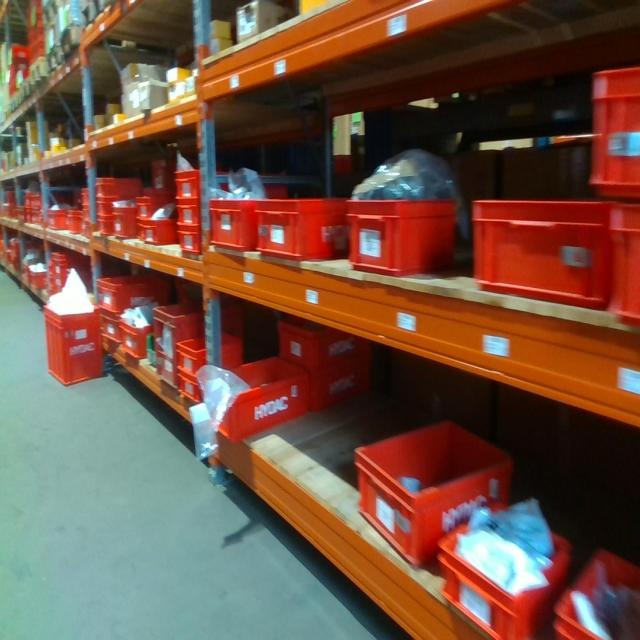pallet: (81, 0, 116, 36), (65, 23, 86, 66), (29, 55, 46, 100), (46, 36, 61, 81), (15, 82, 28, 120)
small_load_carrier: (348, 426, 516, 577), (467, 192, 605, 324), (439, 516, 581, 637), (199, 350, 316, 441), (348, 186, 459, 270), (255, 181, 363, 263), (550, 536, 637, 633), (155, 298, 236, 396), (587, 55, 639, 199), (41, 293, 106, 389), (270, 309, 376, 363), (605, 193, 639, 321), (307, 363, 376, 419), (94, 272, 166, 321), (178, 331, 247, 382), (207, 199, 259, 254), (172, 164, 223, 200), (119, 319, 150, 357), (176, 200, 223, 225), (112, 200, 137, 242), (142, 221, 174, 251), (93, 172, 119, 199), (50, 255, 69, 288), (176, 225, 202, 249), (100, 309, 120, 338), (137, 216, 160, 239), (179, 375, 204, 396), (134, 197, 159, 214), (46, 210, 64, 233), (67, 208, 81, 233), (101, 199, 119, 216), (98, 218, 110, 239)
